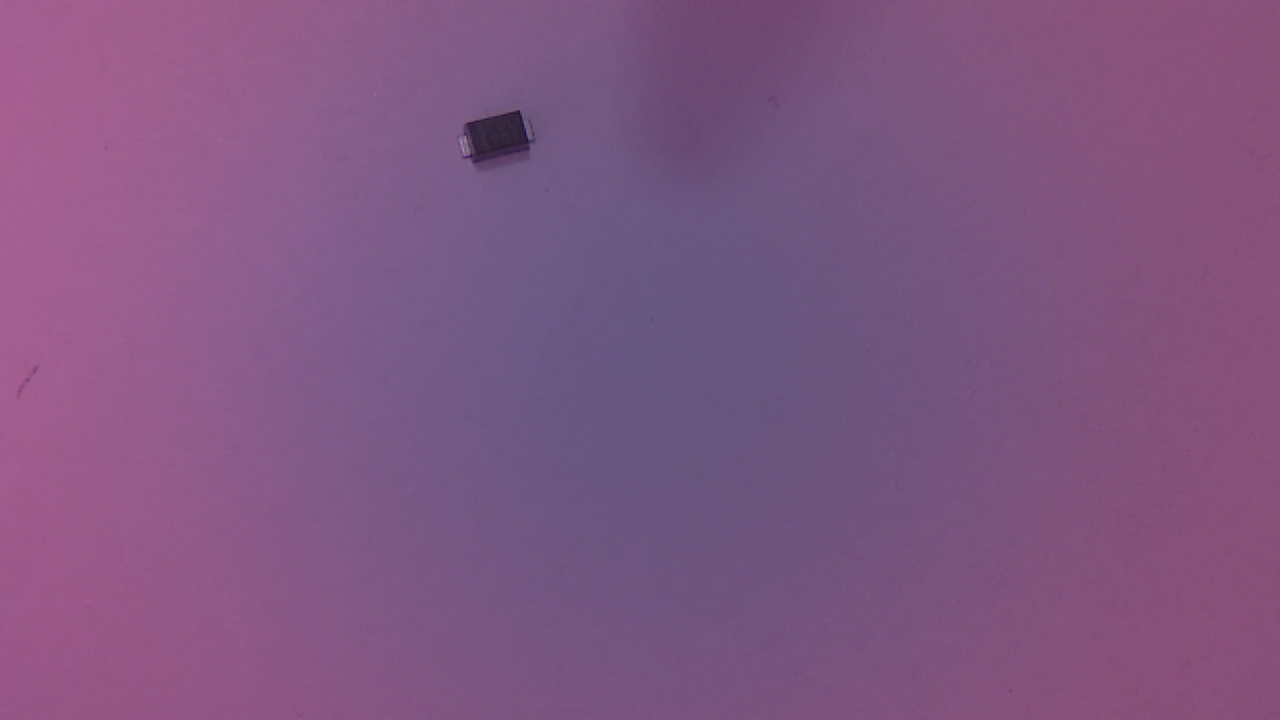Diode: (459, 116, 544, 174)
